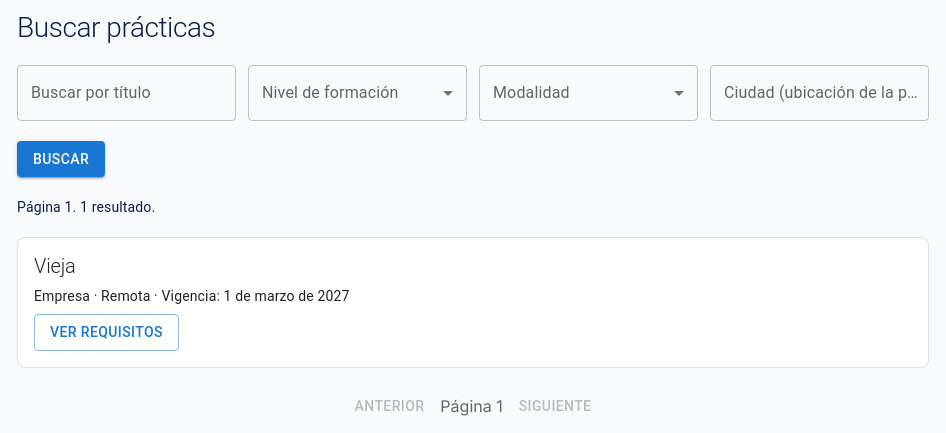
Test: BuscarVacantes › si una búsqueda falla, no deja los resultados anteriores como si fueran de ella
Expected: the heading "Vieja" is shown, left=34, top=254, right=76, bottom=278
Click the button "Buscar" at point(61, 159), box left=17, top=141, right=105, bottom=177
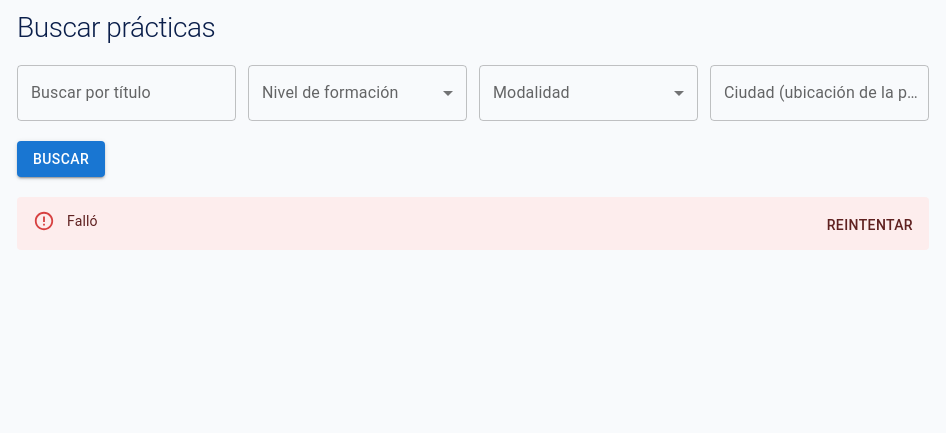
Now the message reads "Falló Reintentar", box left=17, top=197, right=929, bottom=250
Now the heading "Vieja" is gone
